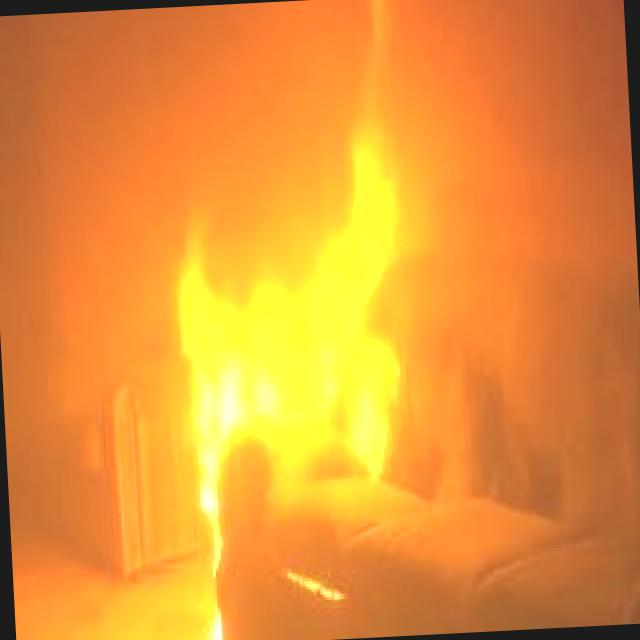fire: (158, 193, 400, 462)
